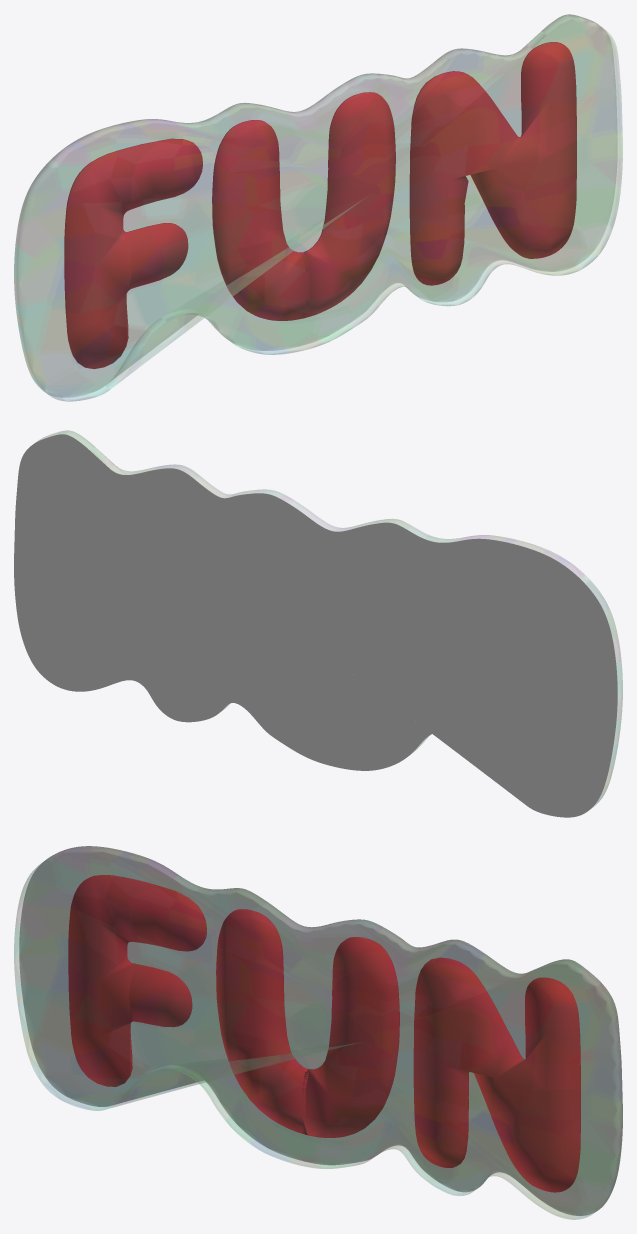
File: FUN_holo.glb
The picture shows the model from 3 angles, top to bottom: view 1: azimuth 30°, elevation 25°; view 2: azimuth 150°, elevation 25°; view 3: azimuth 330°, elevation 25°; orthographic projection.
Visible parts, largest first — view 1: 円柱.002, 円柱.003, 平面.005, 平面.004, 平面.003; view 2: 円柱.001, 円柱.002; view 3: 円柱.002, 円柱.003, 平面.005, 平面.004, 平面.003.
Part boxes in pixels (<box>): 円柱.002: <box>14,15,622,401</box>; 円柱.003: <box>14,14,617,397</box>; 平面.005: <box>409,42,576,285</box>; 平面.004: <box>212,92,395,320</box>; 平面.003: <box>64,138,202,369</box>; 円柱.001: <box>14,434,617,817</box>; 円柱.002: <box>37,430,622,807</box>; 円柱.002: <box>14,846,622,1219</box>; 円柱.003: <box>19,846,622,1215</box>; 平面.005: <box>413,957,580,1192</box>; 平面.004: <box>216,909,399,1137</box>; 平面.003: <box>68,875,206,1086</box>.
Bounding box in the file's own units: 2.18 × 0.9221 × 0.034.
Materials: 4 (1 with a texture image).
